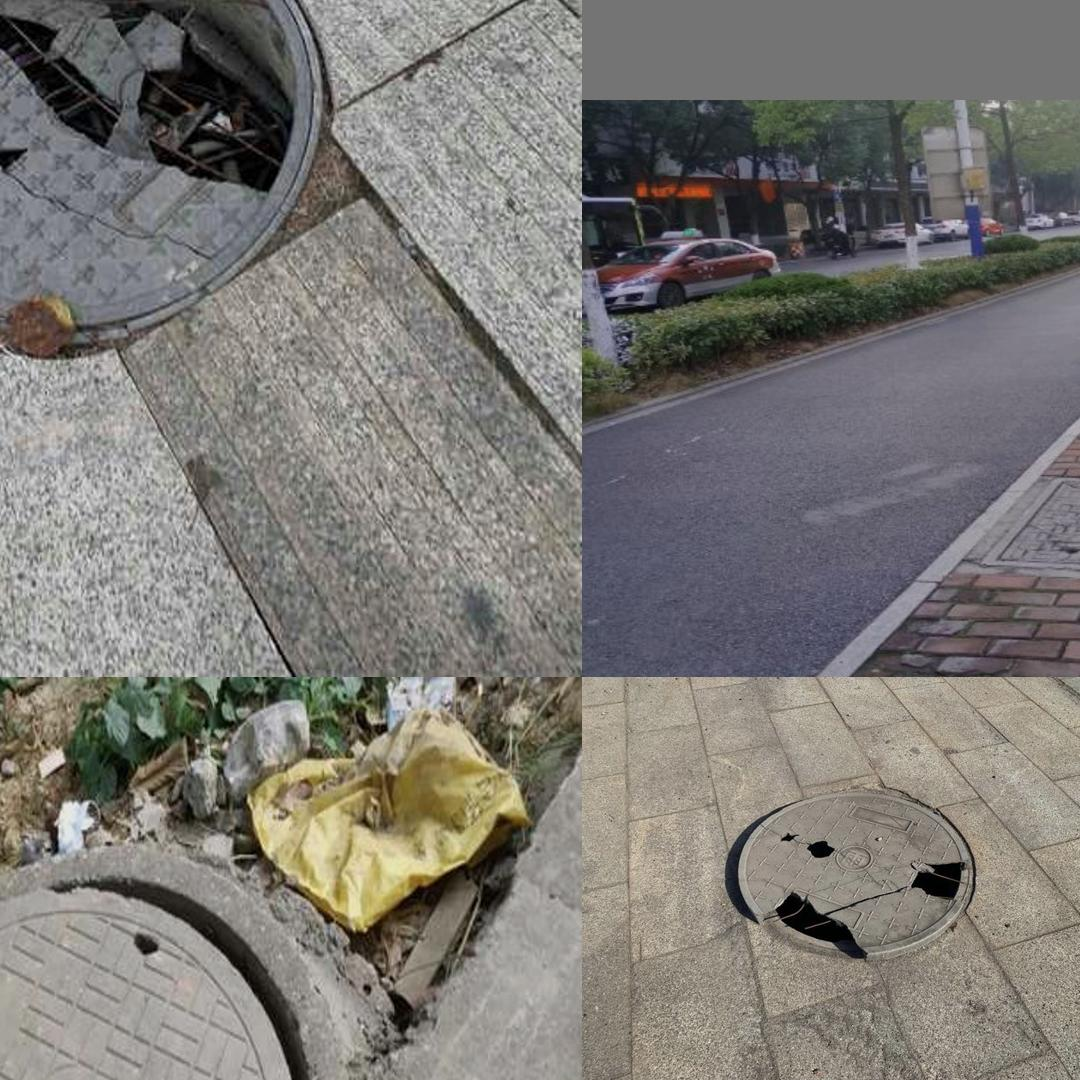broke: (0, 0, 336, 367), (0, 823, 394, 1080), (716, 775, 985, 964), (979, 475, 1080, 573)
